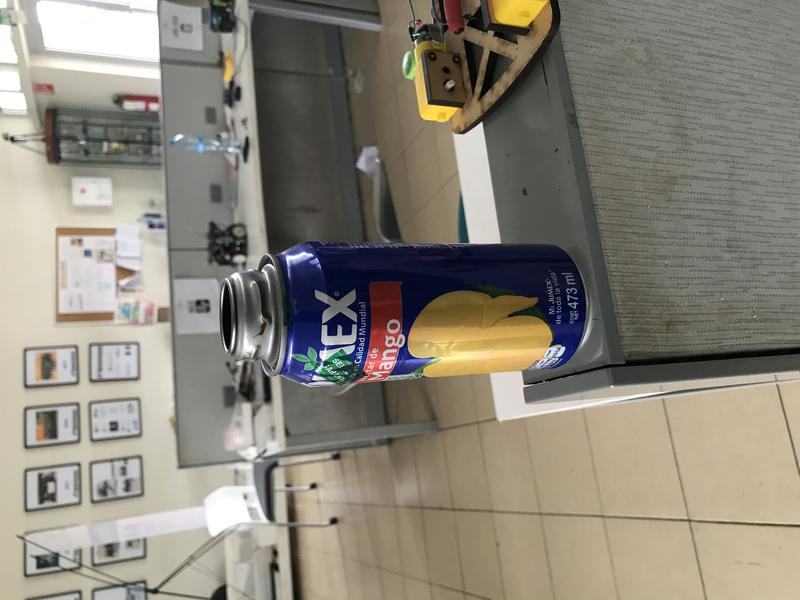jumex_botella: (221, 239, 594, 387)
